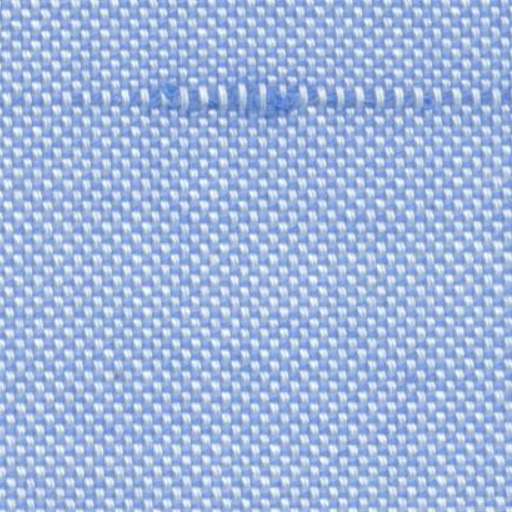DaiSha: (32, 66, 488, 131)
